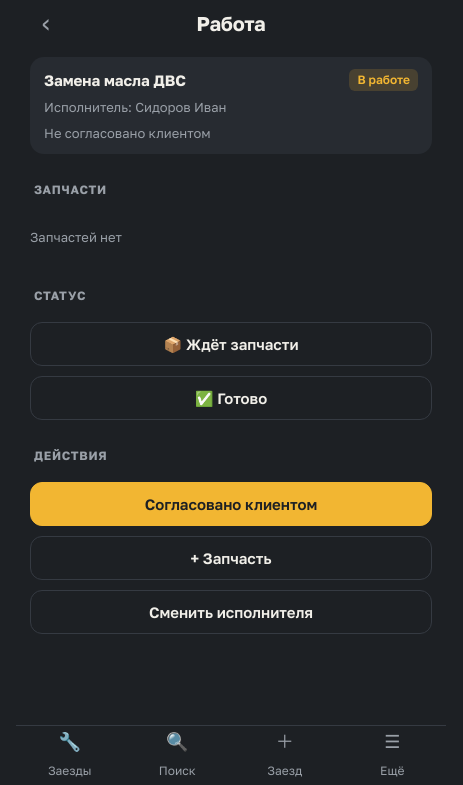
Test: approve posts and hides the button
The width and height of the screenshot is (463, 785).
What coordinates should you click on to do the following:
click the button "Согласовано клиентом"
I would click on:
 (231, 504)
Its box is [30,482,432,526].
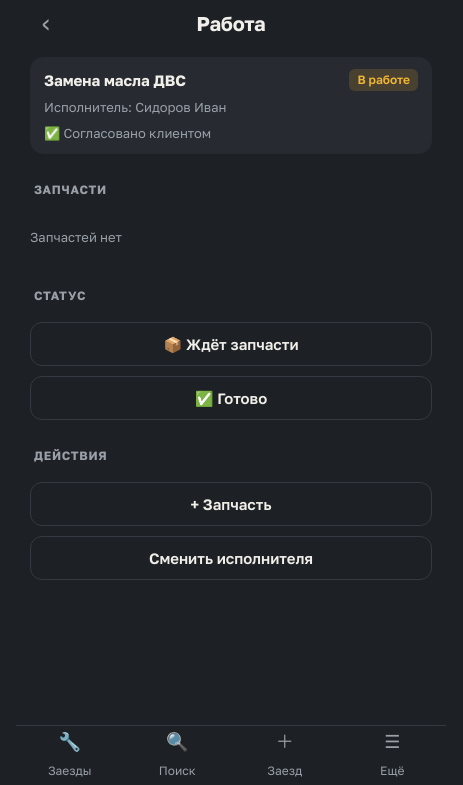
expect the text "✅ Согласовано клиентом" is shown: met, box [44,125,211,141]
